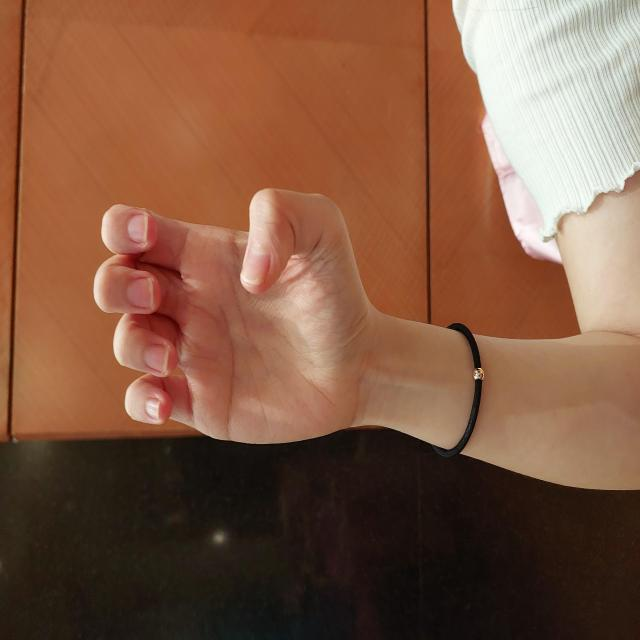E: (194, 91, 454, 366)
